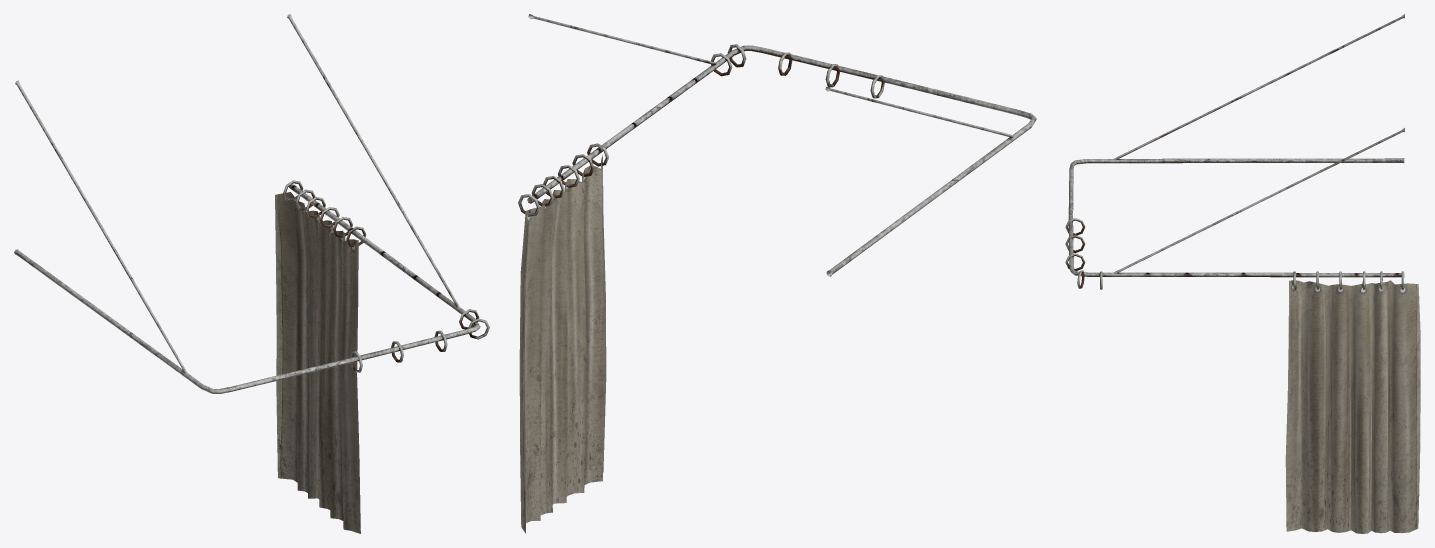
The model's file is Curtain2.fbx.
3 renders of one model, left to right at view 1: azimuth 30°, elevation 25°; view 2: azimuth 150°, elevation 25°; view 3: azimuth 270°, elevation 25°, orthographic. The views are drawn at different scales.
Visible parts, largest first — view 1: Curtain; view 2: Curtain; view 3: Curtain.
Part boxes in pixels (<box>): Curtain: <box>14,14,489,533</box>; Curtain: <box>518,14,1036,533</box>; Curtain: <box>1065,14,1420,533</box>.
Size of the model in its own units: 520 by 811 by 648.
1 material, 1 textured.
